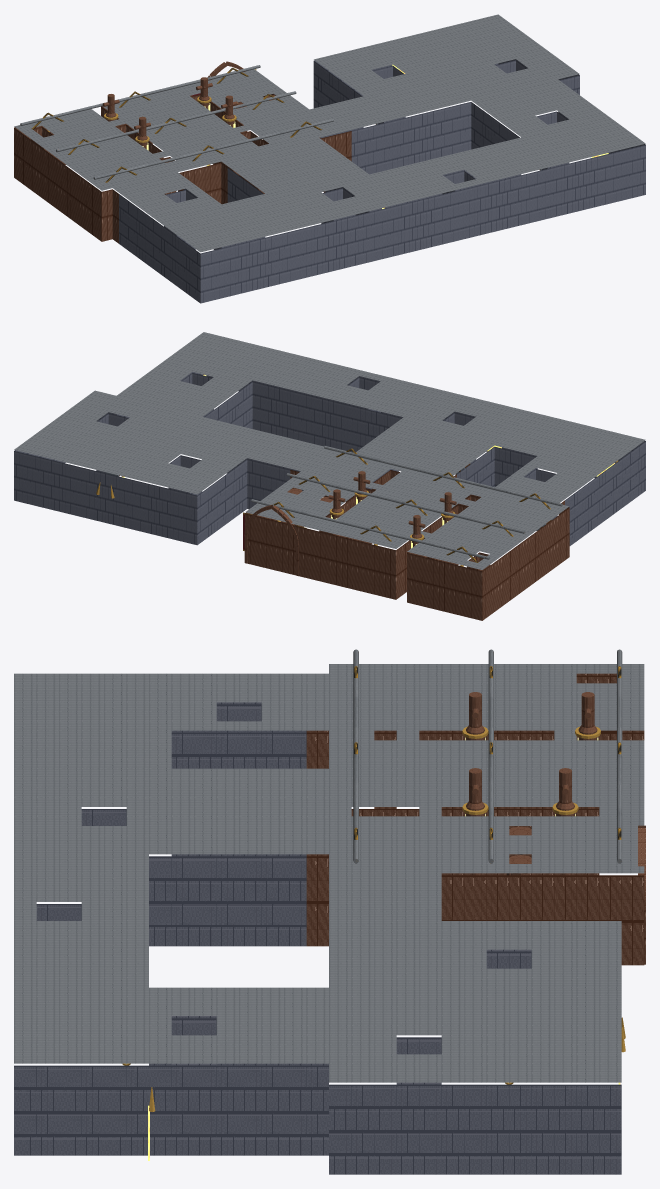
Rendered from furnace.gltf.
3 views of the same model, one above another, from view 1: azimuth 30°, elevation 25°; view 2: azimuth 150°, elevation 25°; view 3: azimuth 270°, elevation 25° (orthographic). The views are drawn at different scales.
Parts seen in each view (by area): view 1: SCENE_GRID; view 2: SCENE_GRID; view 3: SCENE_GRID.
Boxes of the visible parts, x1,y1,x2,y2 form: SCENE_GRID: [14, 14, 645, 303]; SCENE_GRID: [14, 332, 645, 620]; SCENE_GRID: [14, 649, 645, 1174].
Size of the model in its own units: 44 by 6.5 by 28.07.
2 materials, 2 textured.
